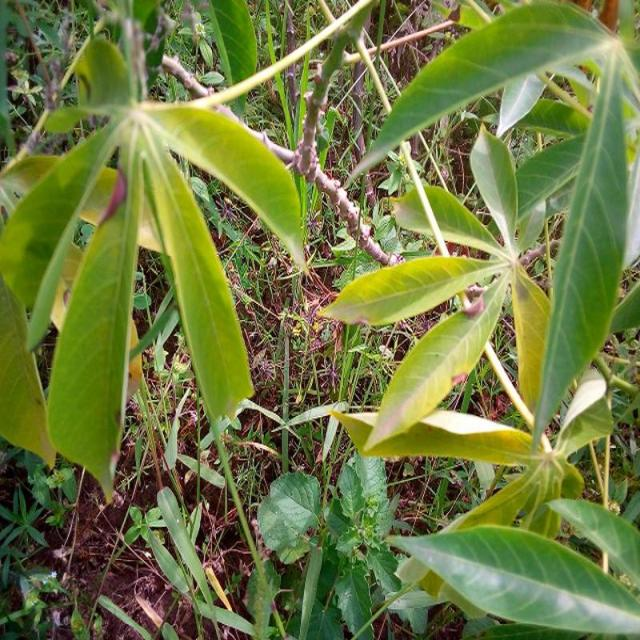cassava leaf: (321, 2, 639, 635), (2, 25, 307, 500), (345, 0, 620, 187), (386, 522, 640, 636)
